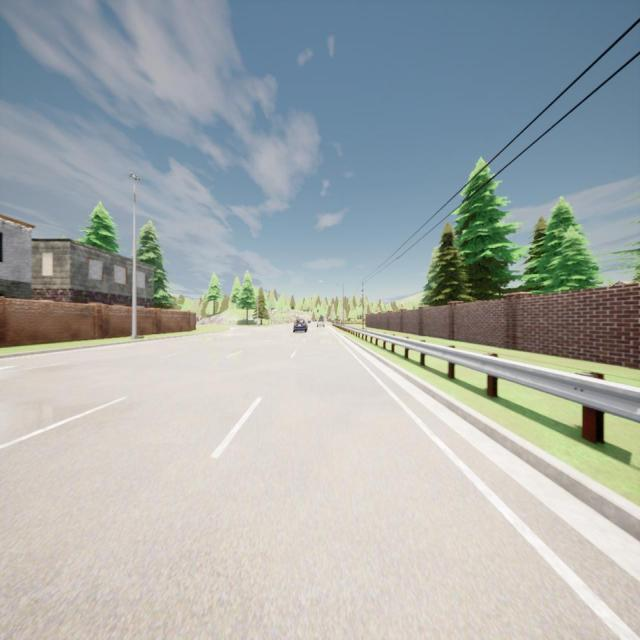Vehicle: (293, 318, 308, 335), (315, 320, 326, 329)
